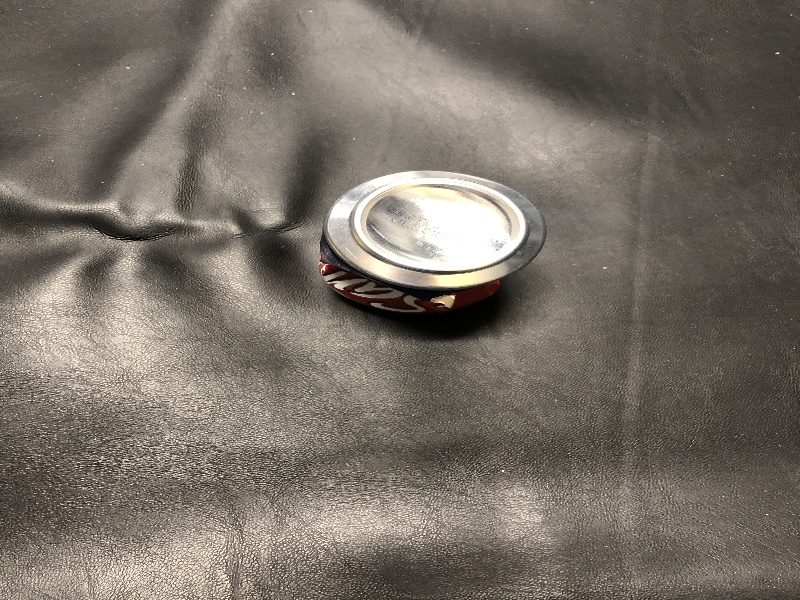metal: (305, 164, 566, 339)
